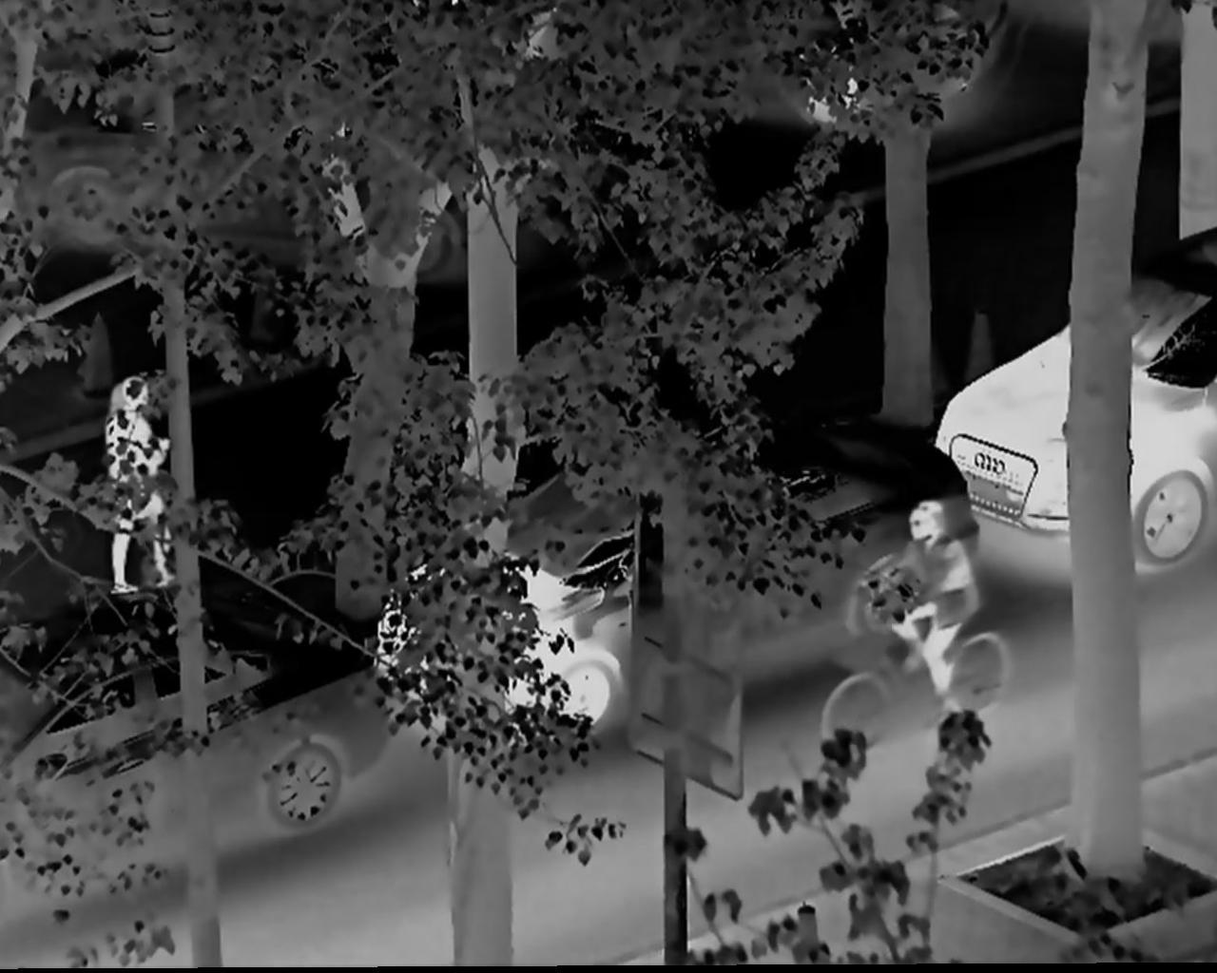person: (864, 503, 999, 740), (89, 375, 187, 595)
